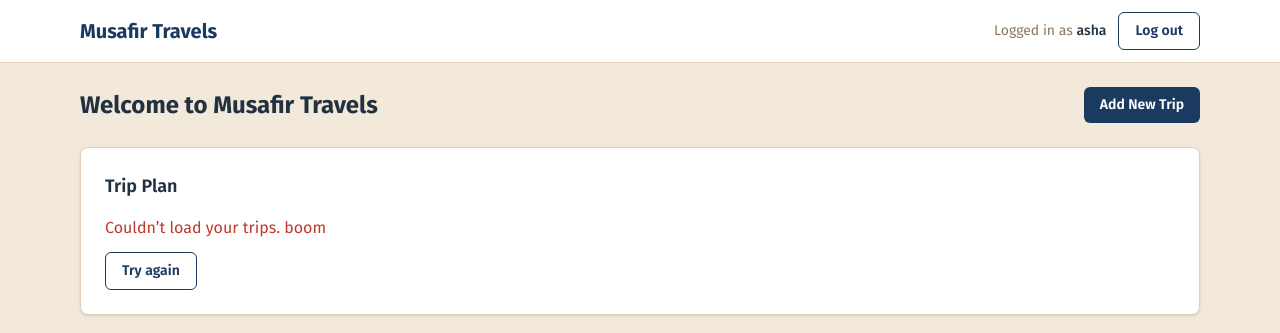
Scenario: HomePage › shows an error with retry
The width and height of the screenshot is (1280, 333).
Expected: the text "Couldn’t load your trips. boom" is shown, [105,218,326,237]
Click the button "Try again".
click(151, 271)  # box [105,252,197,290]
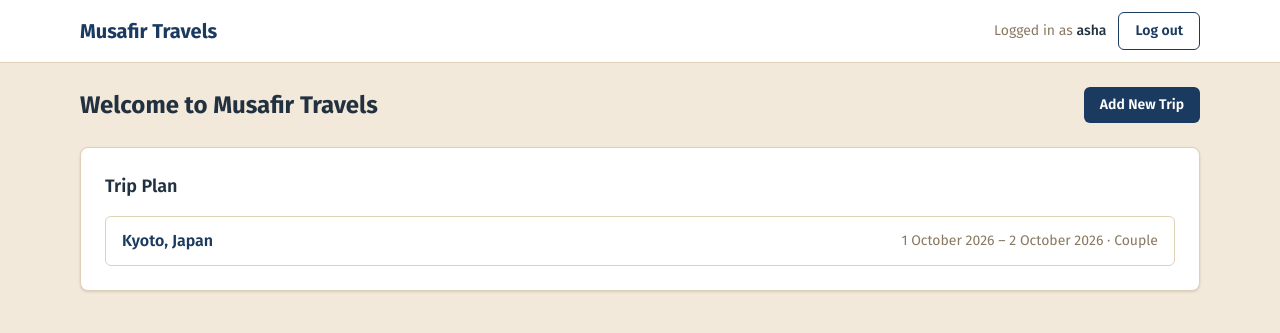
Now the text "Kyoto, Japan" is shown, box [122,229,213,253]
